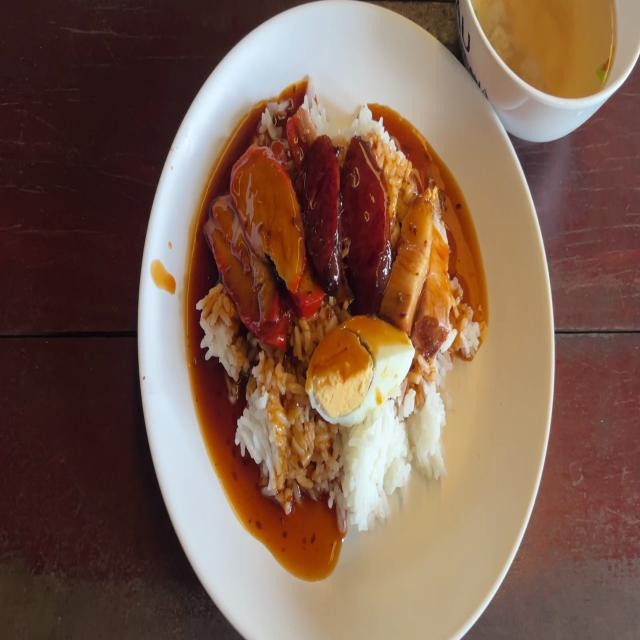red_pork_and_crispy_pork: (308, 316, 411, 433)
stir_fried_basil: (307, 131, 392, 294), (347, 141, 388, 290), (305, 130, 344, 284)
